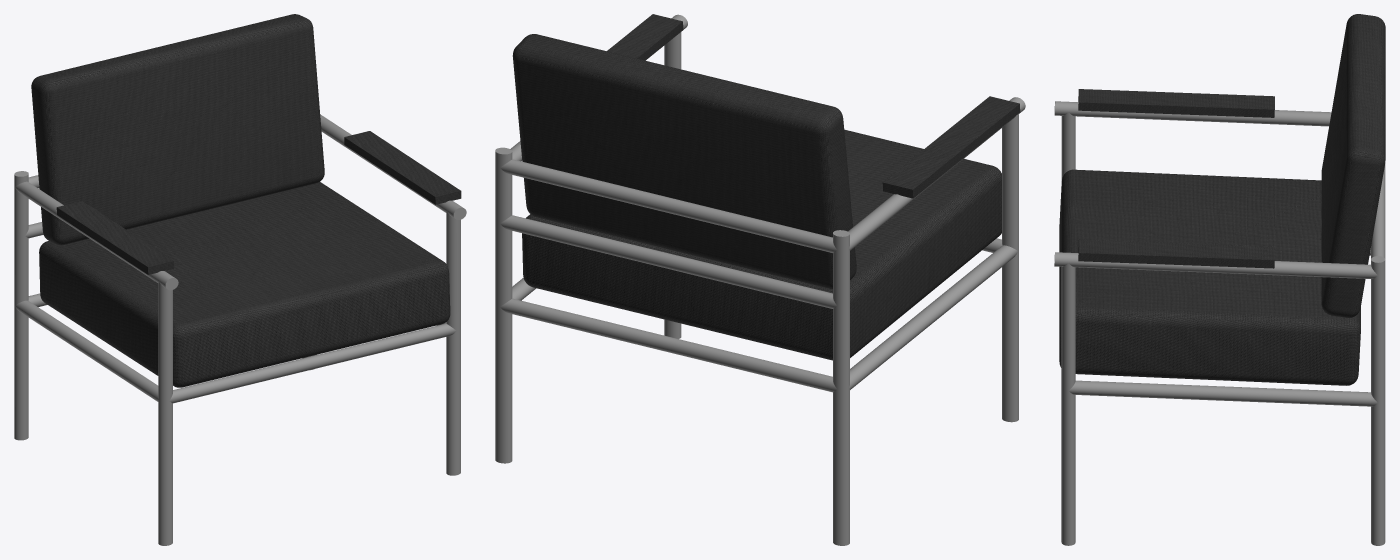
The model's file is Chair 1.FBX.
3 renders of one model, left to right at view 1: azimuth 30°, elevation 25°; view 2: azimuth 150°, elevation 25°; view 3: azimuth 270°, elevation 25°, orthographic. The views are drawn at different scales.
Visible parts, largest first — view 1: Chair; view 2: Chair; view 3: Chair.
Part boxes in pixels (bbox=[...]): Chair: bbox=[14, 14, 466, 545]; Chair: bbox=[495, 14, 1025, 545]; Chair: bbox=[1054, 14, 1385, 545].
Bounding box in the file's own units: 71.74 × 78.77 × 61.16.
Materials: 2 (1 with a texture image).
